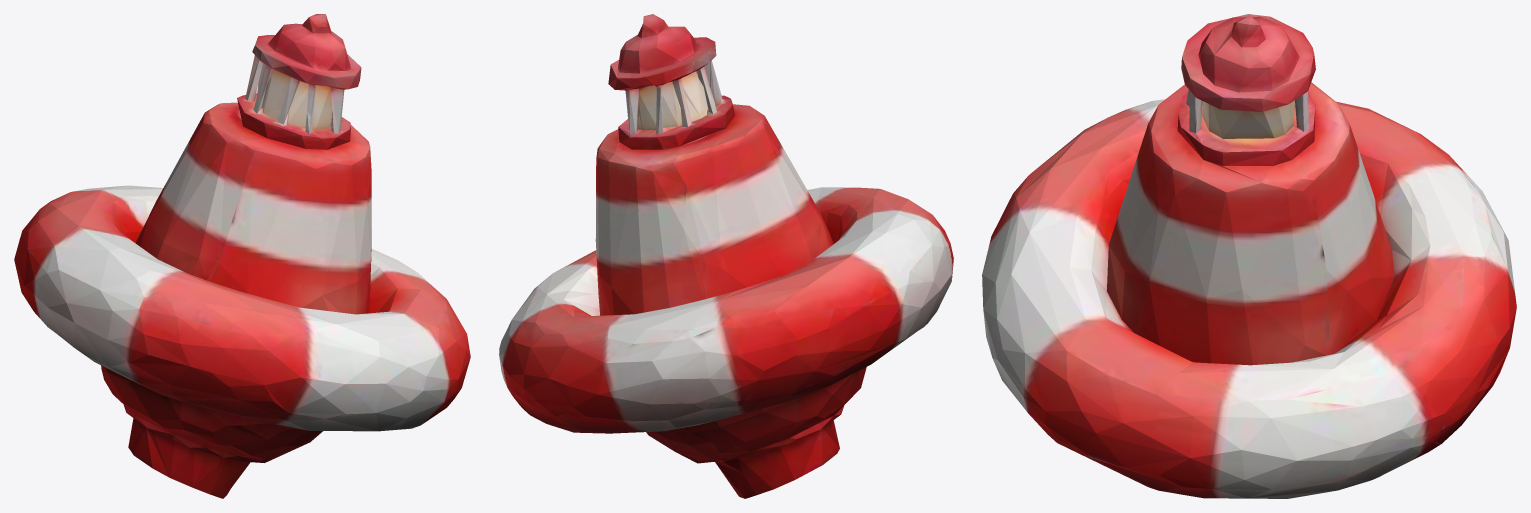
File: buoy.glb
3 views of the same model, side by side, from view 1: azimuth 30°, elevation 25°; view 2: azimuth 150°, elevation 25°; view 3: azimuth 270°, elevation 25° (orthographic). The views are drawn at different scales.
Parts seen in each view (by area): view 1: geometry_0; view 2: geometry_0; view 3: geometry_0.
Part boxes in pixels (x1,y1,x2,y2): geometry_0: (14, 14, 470, 498); geometry_0: (499, 14, 953, 498); geometry_0: (982, 14, 1516, 498).
Bounding box in the file's own units: 0.7333 × 0.8075 × 0.7531.
1 material, 1 textured.
